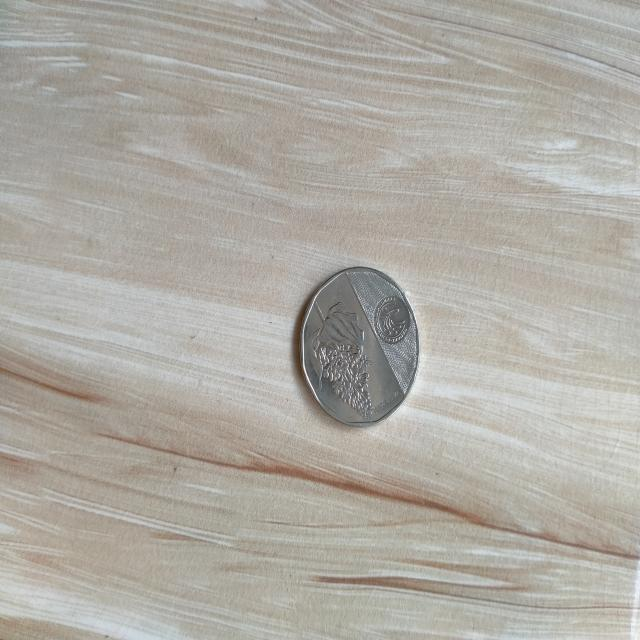10_New_Back: (301, 282, 380, 431)
